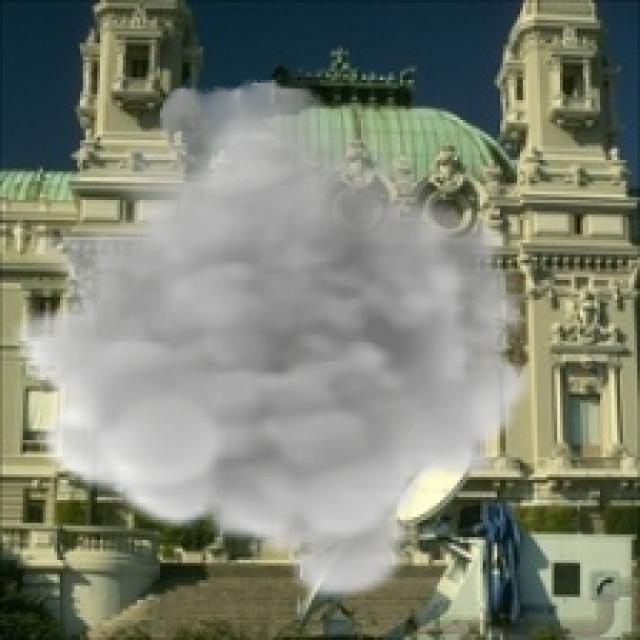smoke: (9, 77, 534, 606)
